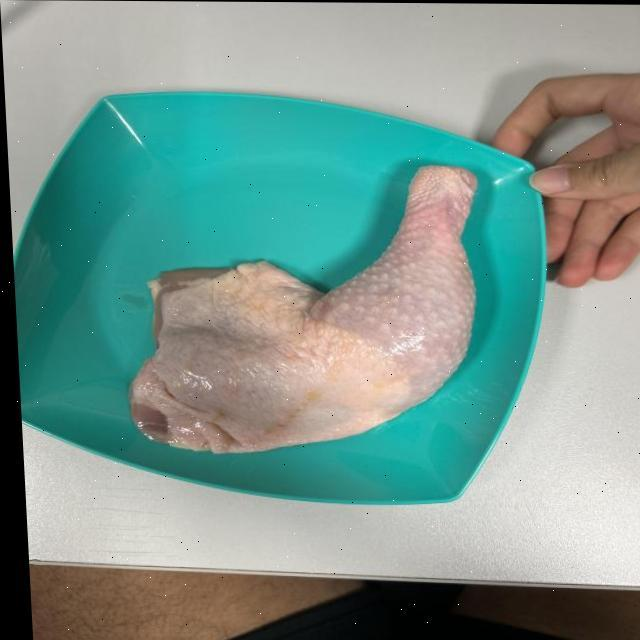quater: (117, 165, 491, 446)
